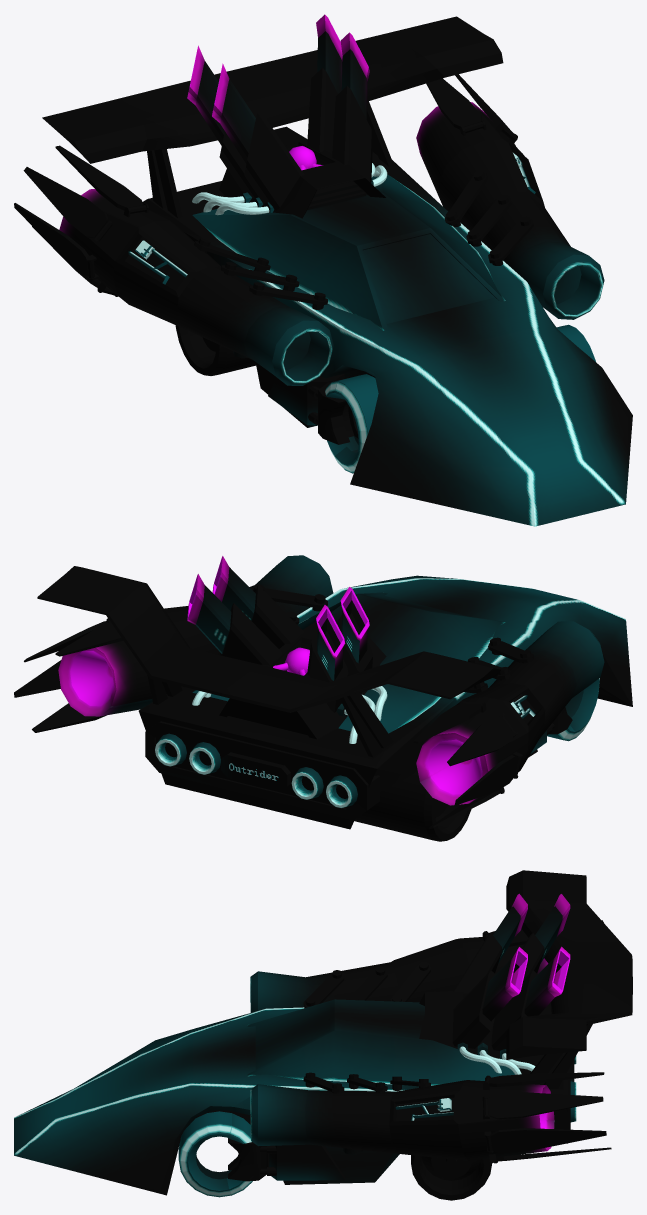
Rendered from Player_Outrider_MESH 1.fbx.
3 renders of one model, top to bottom at view 1: azimuth 30°, elevation 25°; view 2: azimuth 150°, elevation 25°; view 3: azimuth 270°, elevation 25°, orthographic. The views are drawn at different scales.
Visible parts, largest first — view 1: Chassis, pCylinder25 (×2), Canopy, Spoilerwing, base (×4), stack (×4), pCube10 (×4), Reactor_Base, Hollowheel_L, Wheelrear_L, Wheelrunner_L, Base (+2 smaller); view 2: Chassis, pCylinder25 (×2), Spoilerwing, Canopy, pCube10 (×8), stack (×4), Rear_Fendor, base (×4), Wheelrear_L, Reactor_Base, Numberplate, Hollowheel_L (+8 smaller); view 3: Chassis, pCylinder25 (×2), Canopy, Spoilerwing, pCube10 (×4), stack (×4), base (×4), Hollowheel_L, Wheelrear_L, Reactor_Base, Base, Brace (×3) (+2 smaller).
Part boxes in pixels (x1,y1,x2,y2): Chassis: (142,152,632,526); pCylinder25 (×2): (59,102,604,385); Canopy: (192,174,505,330); Spoilerwing: (42,16,503,163); base (×4): (219,68,372,210); stack (×4): (187,14,369,163); pCube10 (×4): (14,78,481,275); Reactor_Base: (219,126,385,218); Hollowheel_L: (325,374,378,473); Wheelrear_L: (175,325,255,375); Wheelrunner_L: (318,380,358,444); Base: (268,374,344,425); Chassis: (138,575,632,829); pCylinder25 (×2): (58,555,604,805); Spoilerwing: (37,566,501,712); Canopy: (192,592,505,733); pCube10 (×8): (14,621,518,829); stack (×4): (187,556,369,680); Rear_Fendor: (145,721,379,819); base (×4): (220,585,372,712); Wheelrear_L: (354,771,471,841); Reactor_Base: (219,621,386,739); Numberplate: (221,752,290,790); Hollowheel_L: (547,678,599,741); Chassis: (14,1007,567,1195); pCylinder25 (×2): (250,937,554,1160); Canopy: (247,999,519,1085); Spoilerwing: (506,870,632,1059); pCube10 (×4): (488,1072,611,1161); stack (×4): (482,893,570,1021); base (×4): (452,933,544,1051); Hollowheel_L: (178,1111,252,1197); Wheelrear_L: (411,1155,492,1200); Reactor_Base: (419,991,551,1064); Base: (269,1144,344,1180); Brace (×3): (303,963,430,1008).
Size of the model in its own units: 312 by 179 by 439.
